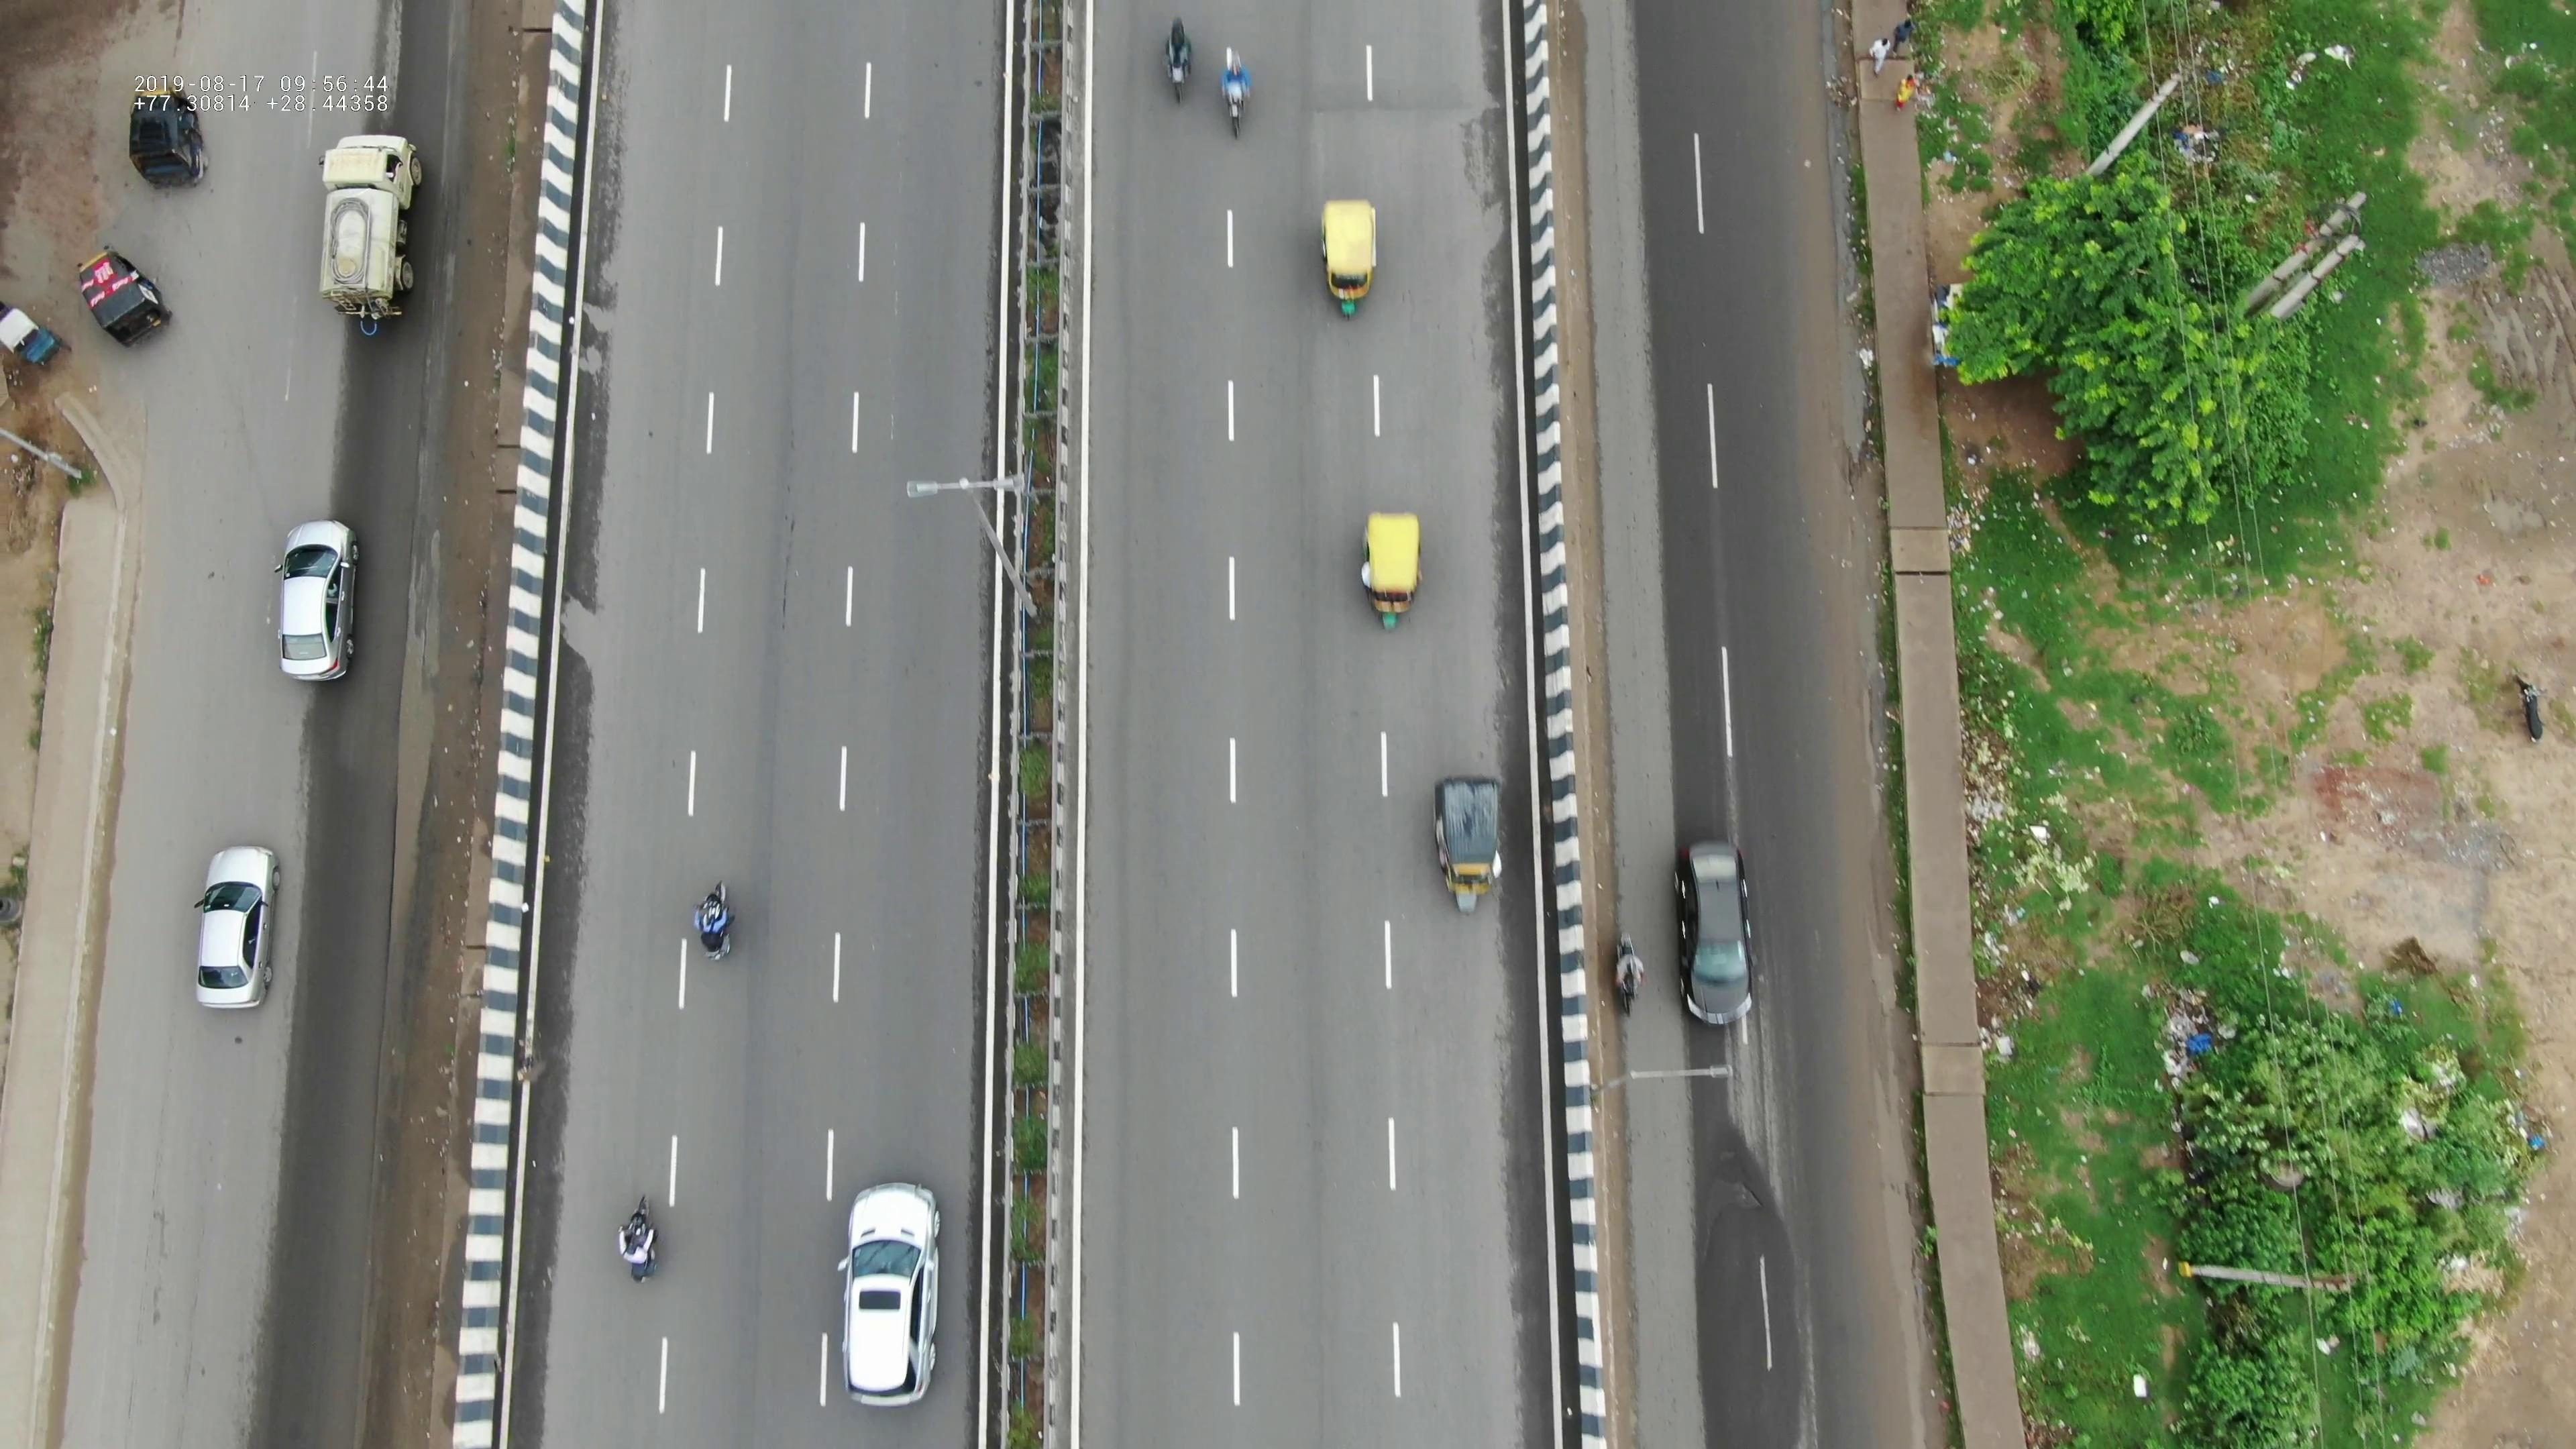Muddy_road: (380, 904, 492, 1433), (405, 464, 511, 876), (433, 133, 556, 416)
Potholes: (1675, 1141, 1794, 1299)
